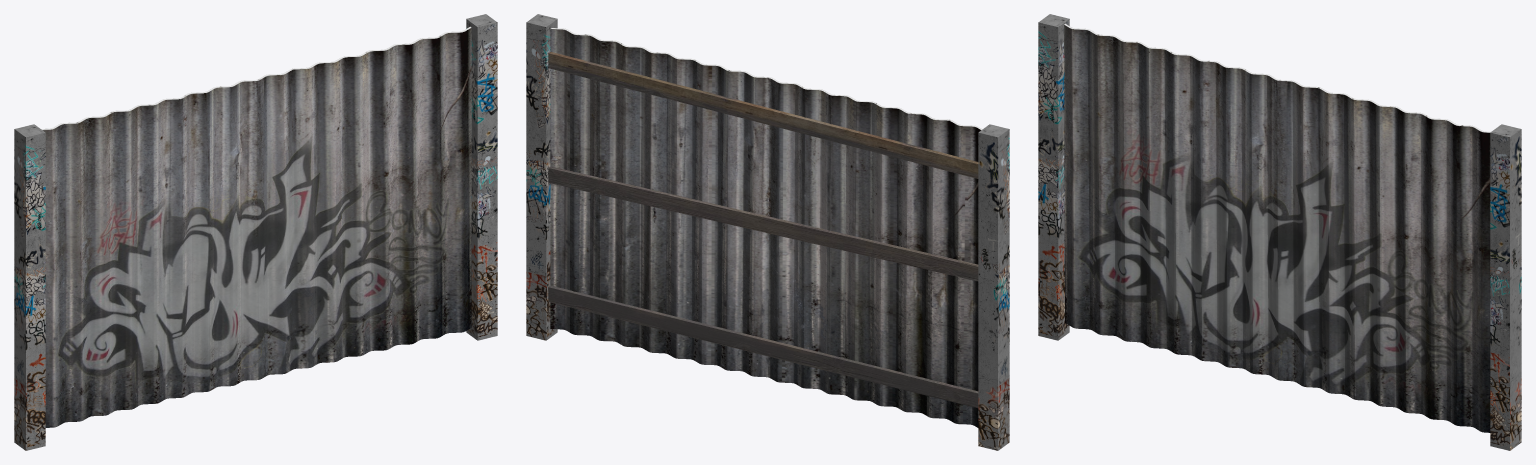
Rendered from Fence_9.glb.
3 views of the same model, side by side, from view 1: azimuth 30°, elevation 25°; view 2: azimuth 150°, elevation 25°; view 3: azimuth 330°, elevation 25° (orthographic).
Visible parts, largest first — view 1: Example_Fence_sections__not_for_use__T_concrete_0.033, Example_Fence_sections__not_for_use__T_concrete_0.045, PanelStyle_A_T_graffiti8_0.028, PanelStyle_A_T_graffiti8_0.032, PanelStyle_A_T_graffiti8_0.022, PanelStyle_A_T_graffiti8_0.016, PanelStyle_A_T_graffiti8_0.010, PanelStyle_A_T_graffiti8_0.018, PanelStyle_A_T_graffiti8_0.024, PanelStyle_A_T_graffiti8_0.006, PanelStyle_A_T_graffiti8_0.012, PanelStyle_A_T_graffiti8_0.014 (+27 smaller); view 2: PanelStyle_A_T_wood_0.009, PanelStyle_A_T_wood_0.004, PanelStyle_A_T_wood_0.014, Example_Fence_sections__not_for_use__T_concrete_0.034, Example_Fence_sections__not_for_use__T_concrete_0.047, PanelStyle_A_T_graffiti8_0.066, PanelStyle_A_T_graffiti8_0.060, PanelStyle_A_T_graffiti8_0.056, PanelStyle_A_T_graffiti8_0.062, PanelStyle_A_T_graffiti8_0.054, PanelStyle_A_T_graffiti8_0.064, PanelStyle_A_T_graffiti8_0.058 (+33 smaller); view 3: Example_Fence_sections__not_for_use__T_concrete_0.045, Example_Fence_sections__not_for_use__T_concrete_0.033, PanelStyle_A_T_graffiti8_0.033, PanelStyle_A_T_graffiti8_0.029, PanelStyle_A_T_graffiti8_0.017, PanelStyle_A_T_graffiti8_0.027, PanelStyle_A_T_graffiti8_0.021, PanelStyle_A_T_graffiti8_0.023, PanelStyle_A_T_graffiti8_0.005, PanelStyle_A_T_graffiti8_0.025, PanelStyle_A_T_graffiti8_0.013, PanelStyle_A_T_graffiti8_0.011 (+27 smaller).
Boxes of the visible parts, <box> form: Example_Fence_sections__not_for_use__T_concrete_0.033: <box>477,22,497,340</box>; Example_Fence_sections__not_for_use__T_concrete_0.045: <box>26,132,45,450</box>; PanelStyle_A_T_graffiti8_0.028: <box>370,50,386,350</box>; PanelStyle_A_T_graffiti8_0.032: <box>421,38,437,339</box>; PanelStyle_A_T_graffiti8_0.022: <box>293,68,310,368</box>; PanelStyle_A_T_graffiti8_0.016: <box>216,87,233,386</box>; PanelStyle_A_T_graffiti8_0.010: <box>139,105,157,404</box>; PanelStyle_A_T_graffiti8_0.018: <box>242,80,259,380</box>; PanelStyle_A_T_graffiti8_0.024: <box>319,62,335,362</box>; PanelStyle_A_T_graffiti8_0.006: <box>88,117,106,416</box>; PanelStyle_A_T_graffiti8_0.012: <box>165,99,182,398</box>; PanelStyle_A_T_graffiti8_0.014: <box>191,93,208,392</box>; PanelStyle_A_T_wood_0.009: <box>548,53,978,178</box>; PanelStyle_A_T_wood_0.004: <box>548,287,978,408</box>; PanelStyle_A_T_wood_0.014: <box>548,168,978,281</box>; Example_Fence_sections__not_for_use__T_concrete_0.034: <box>526,22,546,340</box>; Example_Fence_sections__not_for_use__T_concrete_0.047: <box>978,132,997,450</box>; PanelStyle_A_T_graffiti8_0.066: <box>625,47,641,347</box>; PanelStyle_A_T_graffiti8_0.060: <box>701,65,718,365</box>; PanelStyle_A_T_graffiti8_0.056: <box>752,77,769,377</box>; PanelStyle_A_T_graffiti8_0.062: <box>676,59,692,359</box>; PanelStyle_A_T_graffiti8_0.054: <box>778,83,795,383</box>; PanelStyle_A_T_graffiti8_0.064: <box>650,53,666,353</box>; PanelStyle_A_T_graffiti8_0.058: <box>727,71,743,371</box>; Example_Fence_sections__not_for_use__T_concrete_0.045: <box>1038,22,1058,340</box>; Example_Fence_sections__not_for_use__T_concrete_0.033: <box>1490,132,1509,450</box>; PanelStyle_A_T_graffiti8_0.033: <box>1456,125,1472,426</box>; PanelStyle_A_T_graffiti8_0.029: <box>1405,112,1421,413</box>; PanelStyle_A_T_graffiti8_0.017: <box>1251,74,1268,374</box>; PanelStyle_A_T_graffiti8_0.027: <box>1379,106,1395,407</box>; PanelStyle_A_T_graffiti8_0.021: <box>1302,87,1319,387</box>; PanelStyle_A_T_graffiti8_0.023: <box>1328,93,1344,394</box>; PanelStyle_A_T_graffiti8_0.005: <box>1097,35,1115,335</box>; PanelStyle_A_T_graffiti8_0.025: <box>1354,100,1370,400</box>; PanelStyle_A_T_graffiti8_0.013: <box>1200,61,1217,361</box>; PanelStyle_A_T_graffiti8_0.011: <box>1174,54,1191,355</box>.
Size of the model in its own units: 4.18 by 2.65 by 0.1756.
3 materials, 3 textured.
